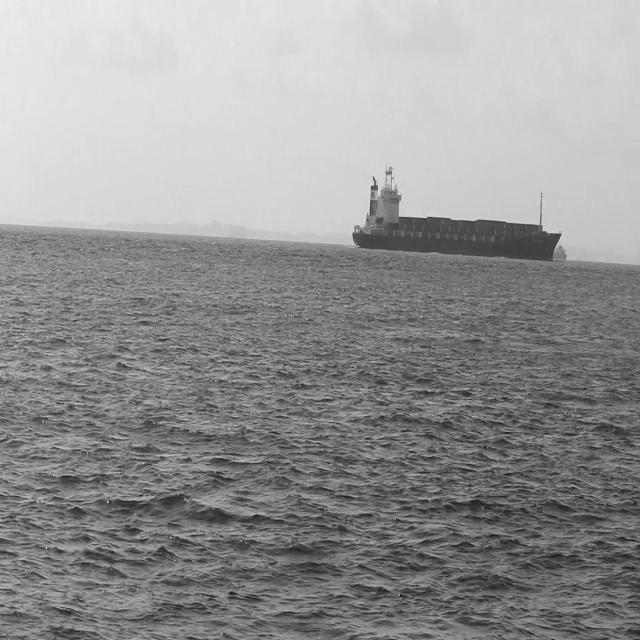ship: (350, 166, 561, 256), (548, 248, 569, 270)
